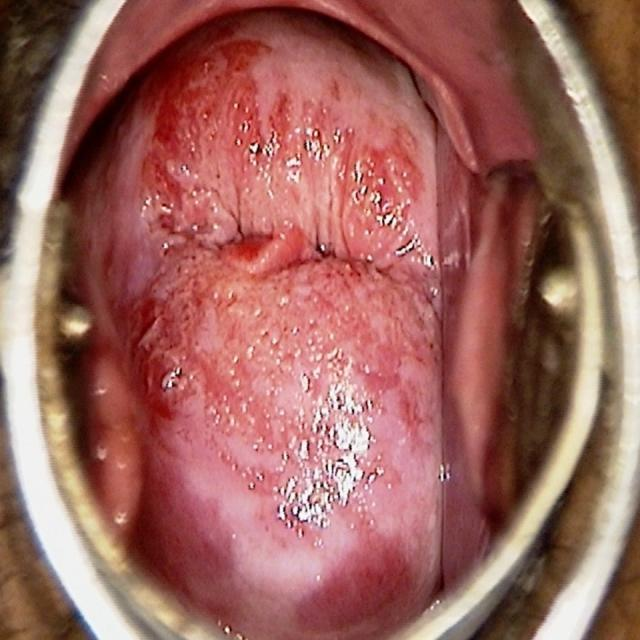cervical_lesion: (117, 73, 445, 533)
